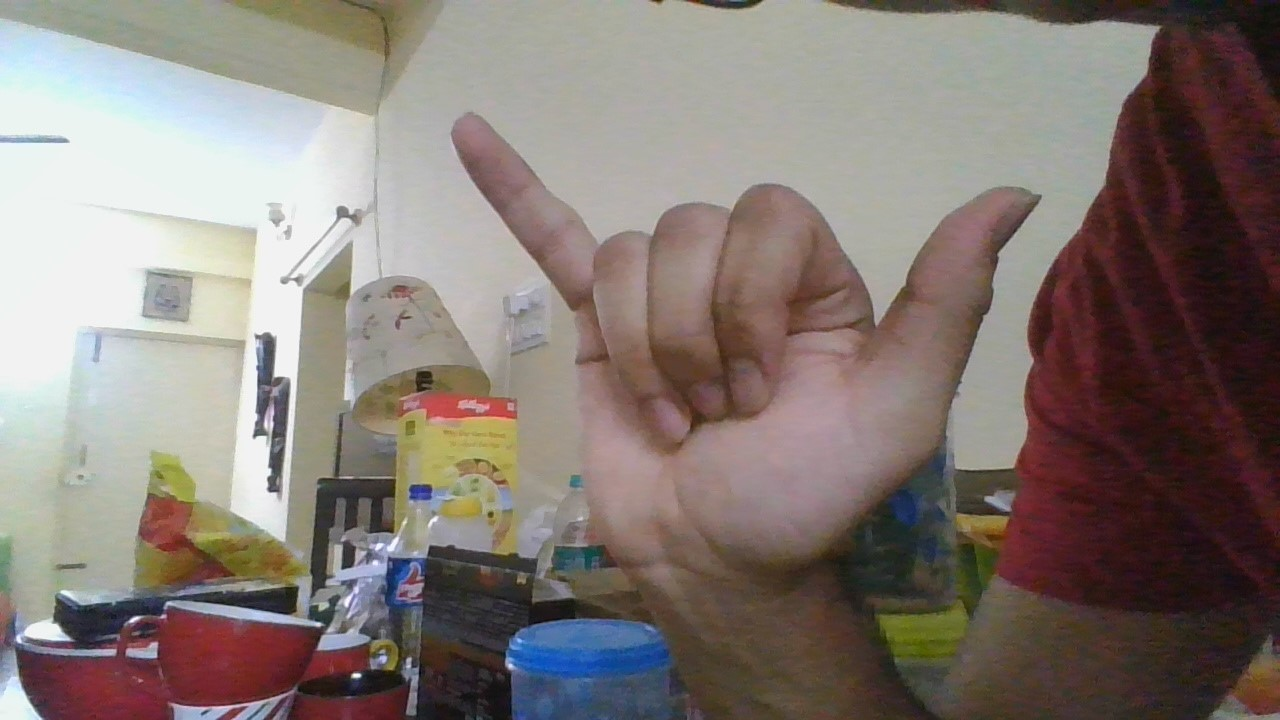y: (445, 107, 1052, 591)
